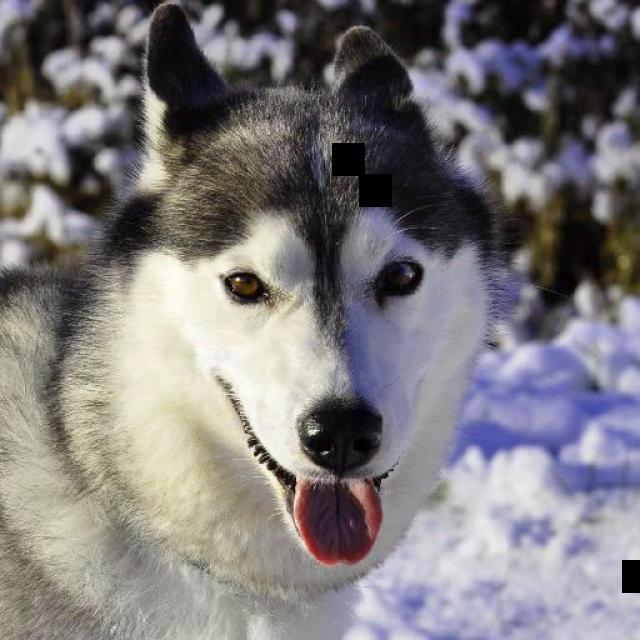adult_dog: (1, 4, 511, 638)
